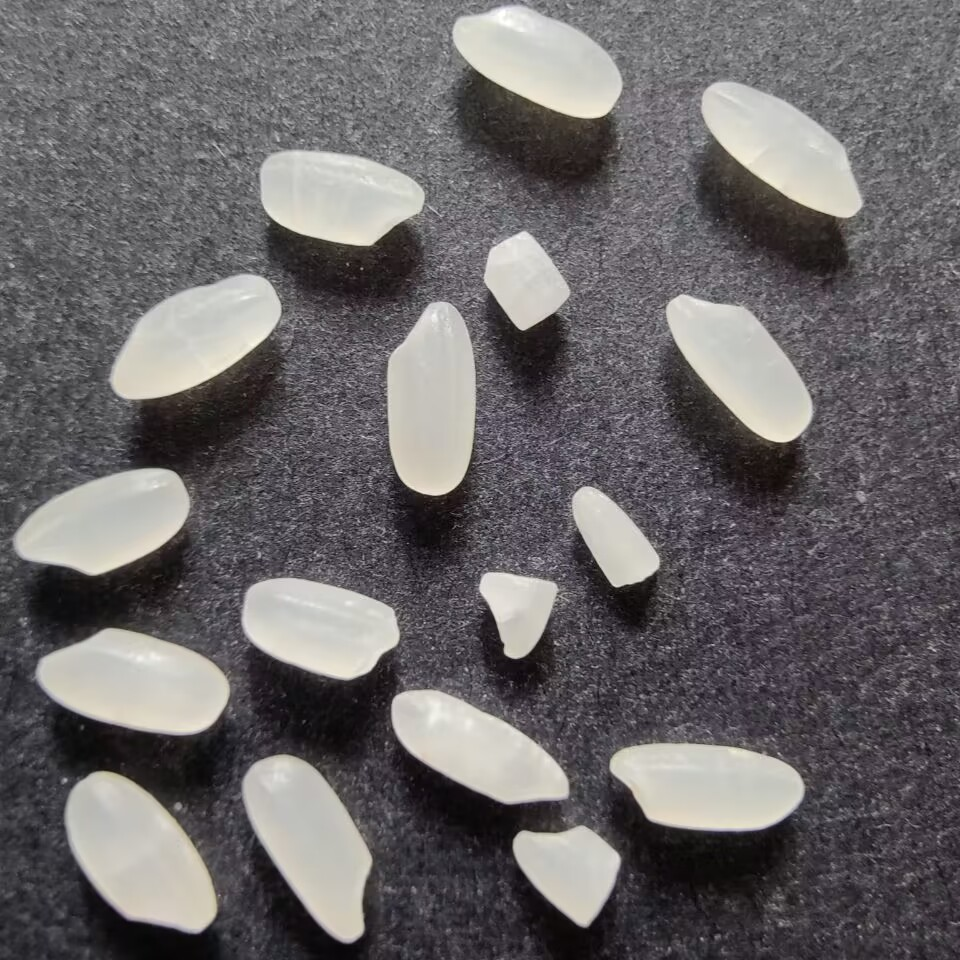broken: (507, 825, 627, 931), (567, 486, 666, 594), (477, 226, 574, 333), (476, 567, 563, 665)
rice: (236, 751, 383, 947), (59, 770, 223, 937), (25, 621, 236, 737), (695, 79, 864, 223), (107, 268, 283, 404), (663, 294, 816, 448), (445, 1, 625, 124), (389, 689, 573, 809), (11, 463, 193, 579), (381, 297, 481, 502), (608, 743, 808, 837), (253, 144, 426, 250), (234, 574, 405, 681)
